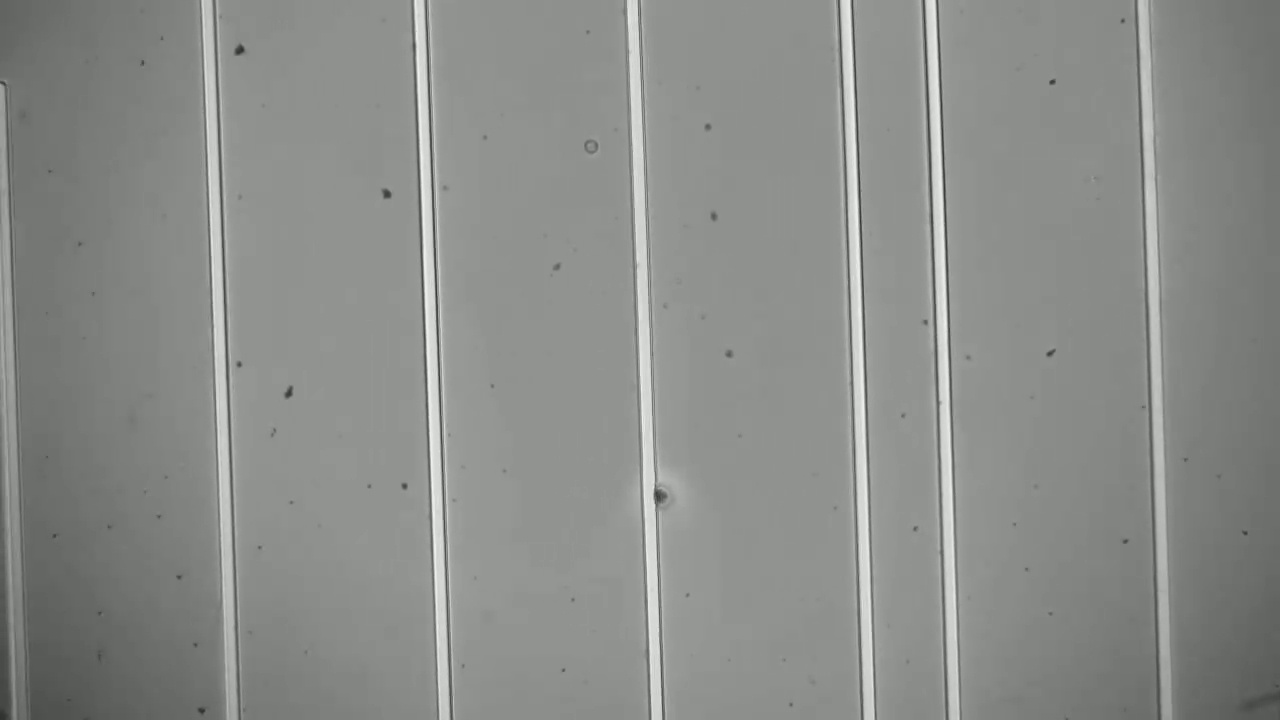stains_enbedded: (633, 479, 676, 516)
